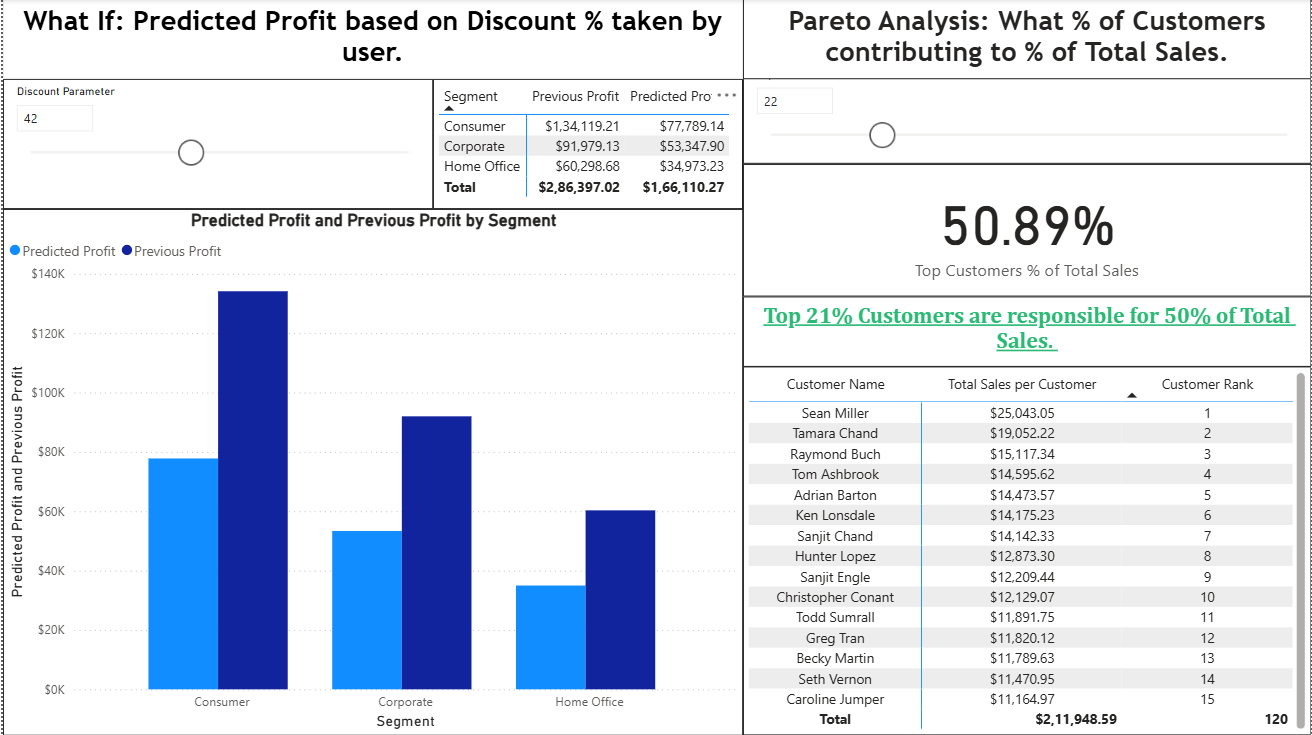

This screenshot's page, from the dashboard's own definition file:
{"tool":"powerbi","page":{"name":"Page 2","canvas":[1280,720],"ordinal":1},"visuals":[{"type":"slicer","fields":{"Values":["Discount Parameter.Discount Parameter"]},"box":[0,78.3,420.7,127.2],"z":0},{"type":"clusteredColumnChart","fields":{"Category":["Orders.Segment"],"Y":["Orders.Predicted Profit","Sum(Orders.Profit)"]},"box":[0,205.4,723.9,514.8],"z":1000},{"type":"pivotTable","fields":{"Rows":["Orders.Segment"],"Values":["Sum(Orders.Profit)","Orders.Adjusted Profit"]},"box":[420.7,78.3,303.3,127.2],"z":2000},{"type":"slicer","fields":{"Values":["Top Customers %.Top Customers %"]},"box":[723.9,61.1,556.4,100.3],"z":3000},{"type":"card","fields":{"Values":["Customer.Top Customers % of Total Sales"]},"box":[723.9,161.4,556.4,129.6],"z":4000},{"type":"pivotTable","fields":{"Rows":["Customer.Customer Name"],"Values":["Sum(Customer.Total Sales per Customer)","Sum(Customer.Customer Sales Rank)"]},"box":[723.9,359.5,556.4,360.7],"z":5000},{"type":"textbox","box":[723.9,291,556.4,68.5],"z":6000},{"type":"textbox","box":[0,0,723.9,78.3],"z":7000},{"type":"textbox","box":[723.9,0,556.4,78.3],"z":8000}]}

Visuals, with their boxes in screenshot pixels (x1, y1, x2, y2), scaled from the page's 1280x720 canvas onto the 1312x735 screenshot:
slicer - Discount Parameter.Discount Parameter: 0/80/431/210
clusteredColumnChart - Orders.Segment x Orders.Predicted Profit: 0/210/742/734
pivotTable - Orders.Segment x Sum(Orders.Profit): 431/80/742/210
slicer - Top Customers %.Top Customers %: 742/62/1311/165
card - Customer.Top Customers % of Total Sales: 742/165/1311/297
pivotTable - Customer.Customer Name x Sum(Customer.Total Sales per Customer): 742/367/1311/734
textbox: 742/297/1311/367
textbox: 0/0/742/80
textbox: 742/0/1311/80
